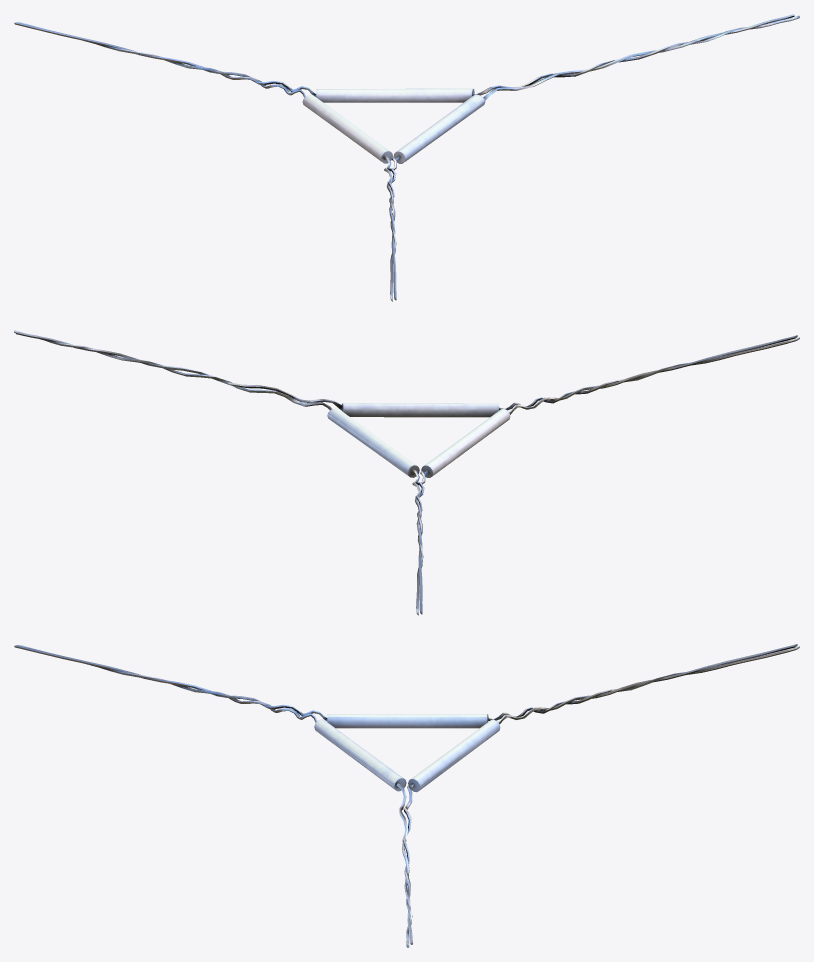
Rendered from tripod_triangle_V2.glb.
3 views of the same model, one above another, from view 1: azimuth 30°, elevation 25°; view 2: azimuth 150°, elevation 25°; view 3: azimuth 270°, elevation 25° (orthographic). The views are drawn at different scales.
Parts seen in each view (by area): view 1: tripod_triangle.001; view 2: tripod_triangle.001; view 3: tripod_triangle.001.
Boxes of the visible parts, x1,y1,x2,y2 form: tripod_triangle.001: [14, 14, 799, 301]; tripod_triangle.001: [14, 330, 799, 615]; tripod_triangle.001: [14, 644, 799, 947].
Size of the model in its own units: 0.1191 by 0.00254 by 0.1314.
1 material, 1 textured.
